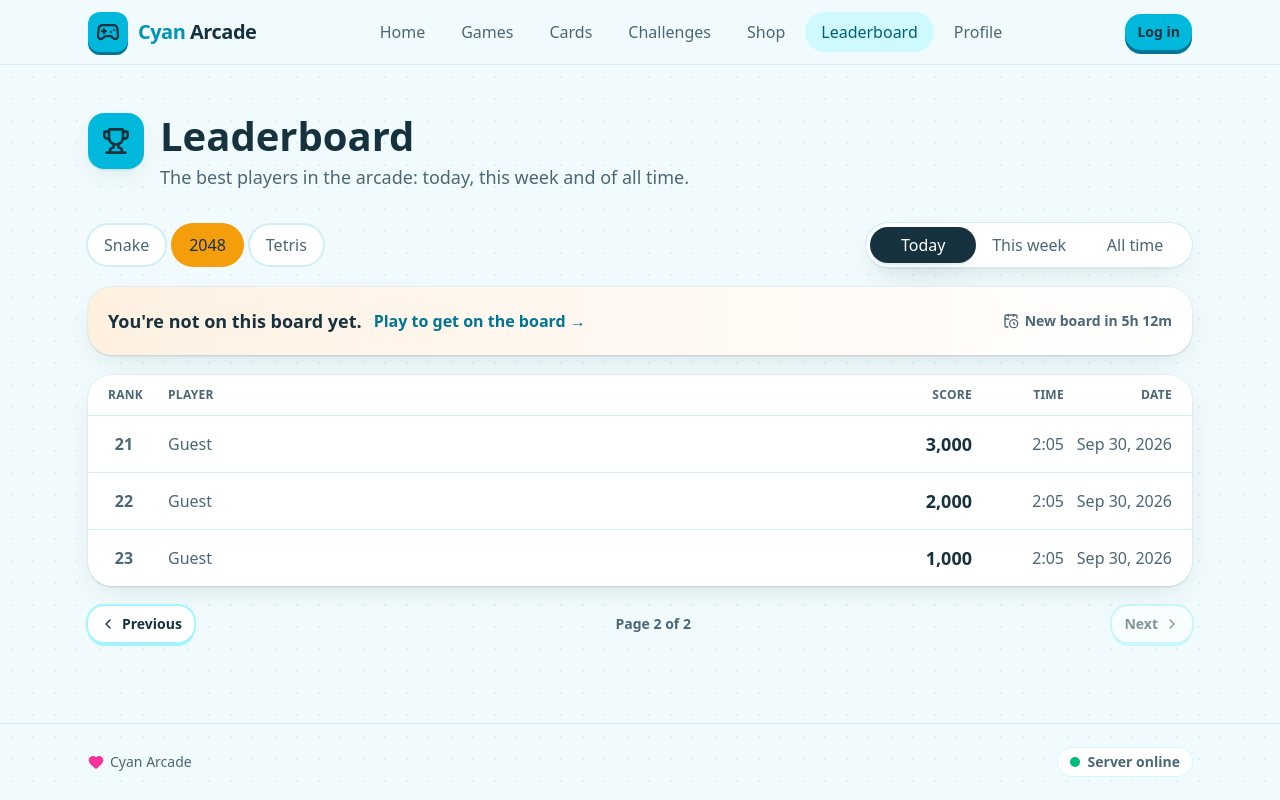
Test: leaderboard page › switches game, keeping the period and starting again from the first page
The image size is (1280, 800).
Expected: the text "Page 2 of 2" is shown, [616,614,691,634]
Click the button "Tetris". click: (286, 245)
box: [250,225,323,265]
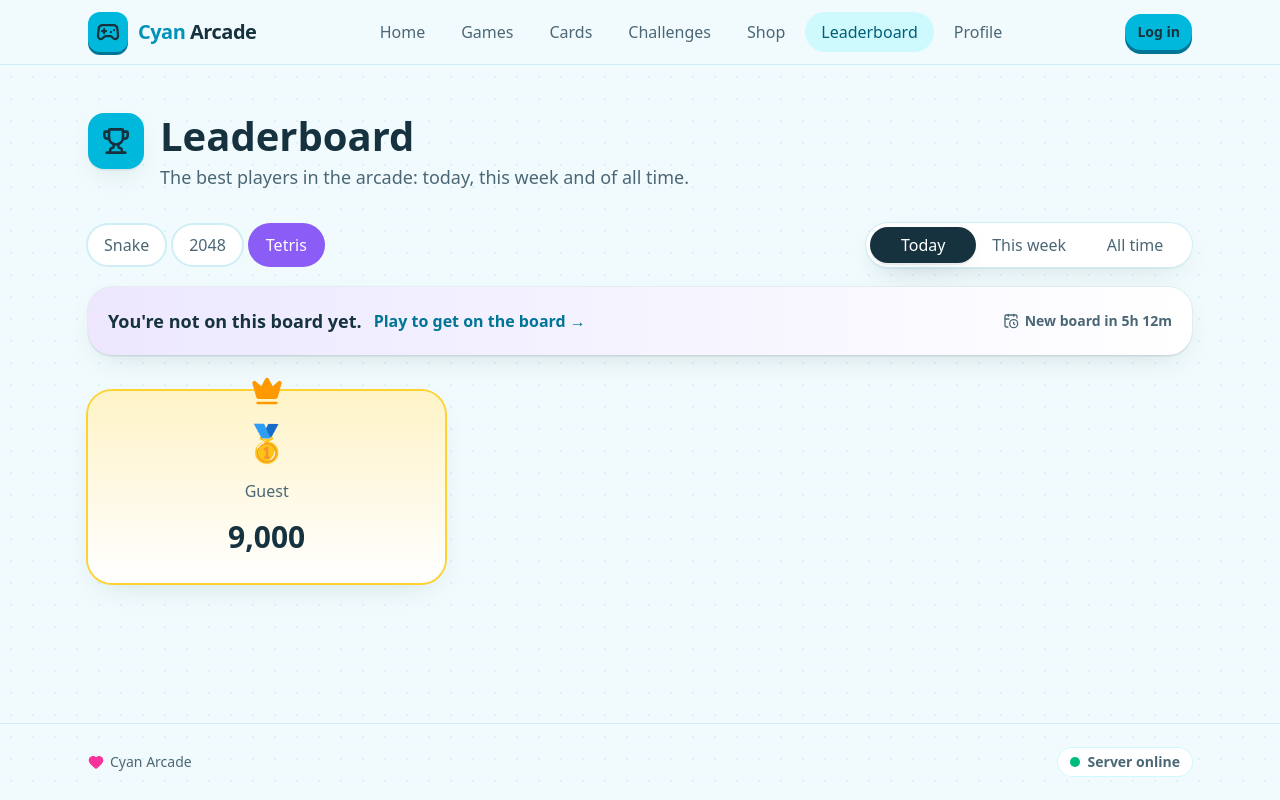
Expected: the list named "Top 1 in Tetris" shows "9,000", [228,516,305,557]
